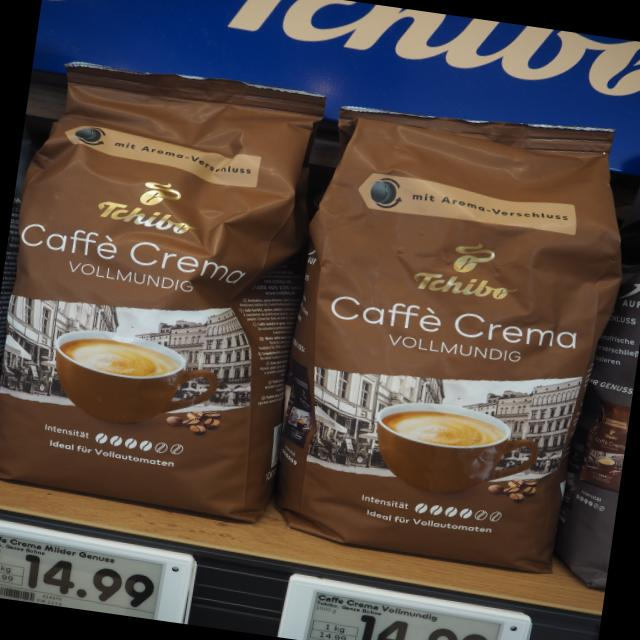CC Vollmundig 36 Pads: (260, 82, 640, 583), (0, 48, 334, 532)
